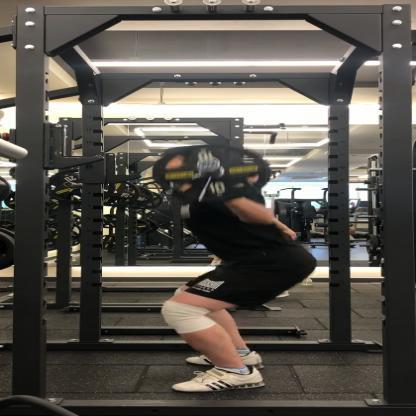Barbell: (194, 158, 230, 176)
